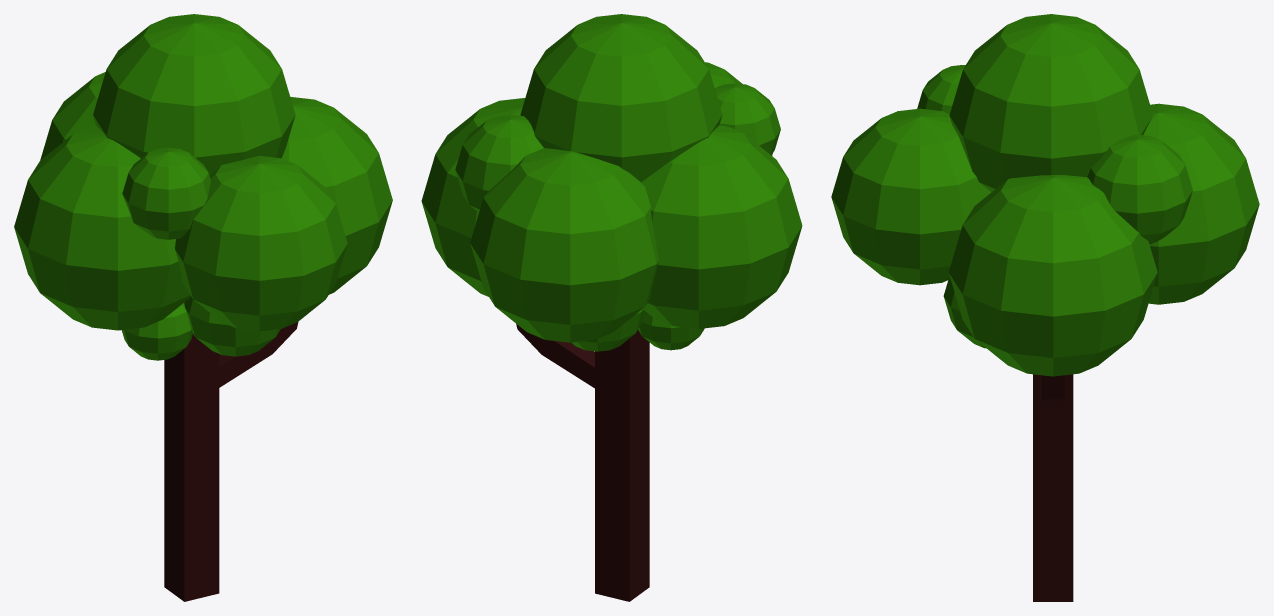
The model's file is OBJ_Tree02.FBX.
3 renders of one model, left to right at view 1: azimuth 30°, elevation 25°; view 2: azimuth 150°, elevation 25°; view 3: azimuth 270°, elevation 25°, orthographic.
Parts seen in each view (by area): view 1: Sphere002, Box001; view 2: Sphere002, Box001; view 3: Sphere002, Box001.
Boxes of the visible parts, x1,y1,x2,y2 form: Sphere002: (14, 14, 392, 360); Box001: (164, 322, 298, 601); Sphere002: (421, 14, 802, 351); Box001: (516, 324, 649, 601); Sphere002: (831, 14, 1259, 376); Box001: (1033, 374, 1073, 601).
Size of the model in its own units: 10.14 by 15.6 by 10.6.
